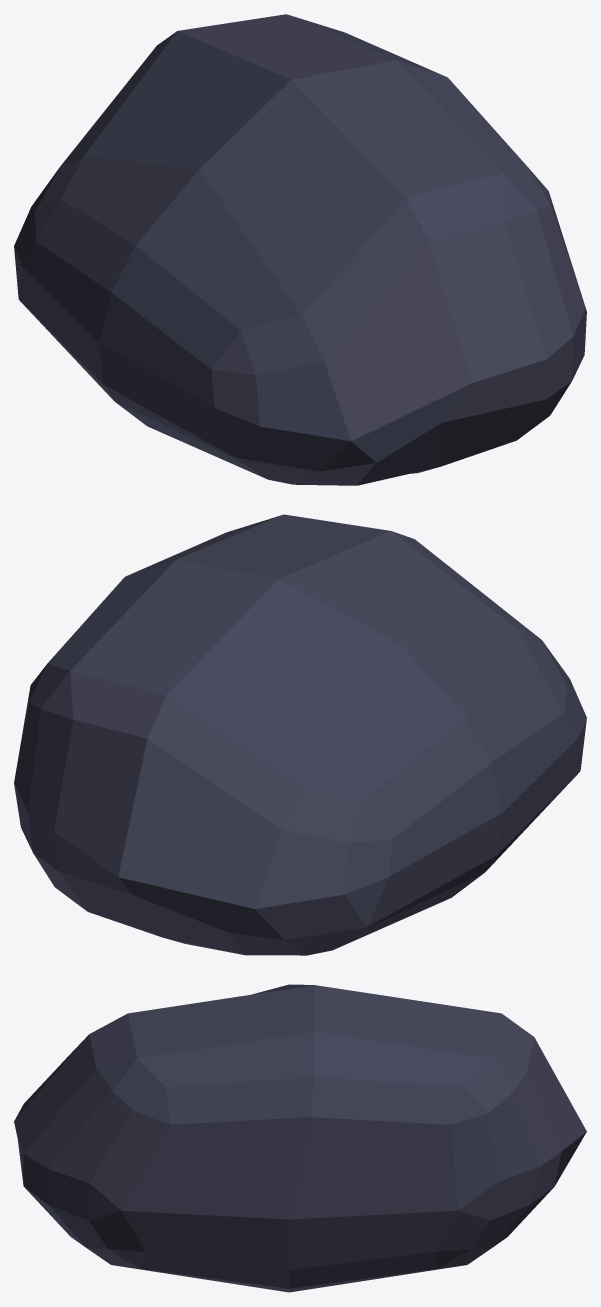
File: Piedra1.fbx
3 views of the same model, one above another, from view 1: azimuth 30°, elevation 25°; view 2: azimuth 150°, elevation 25°; view 3: azimuth 270°, elevation 25° (orthographic). The views are drawn at different scales.
Parts seen in each view (by area): view 1: Cube; view 2: Cube; view 3: Cube.
Part boxes in pixels (<box>): Cube: <box>14,14,586,485</box>; Cube: <box>14,514,586,955</box>; Cube: <box>14,984,586,1292</box>.
Bounding box in the file's own units: 123 × 94.91 × 181.
